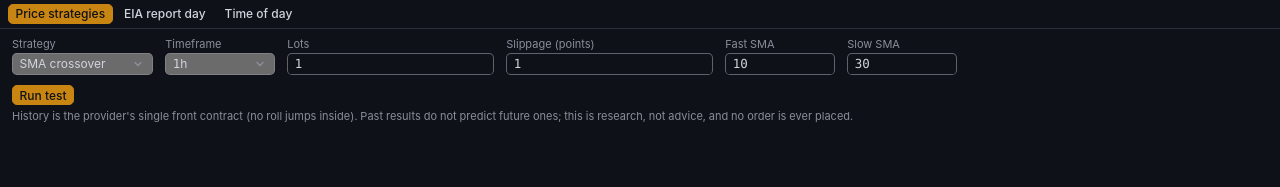
Scenario: the Strategy tester panel offers the EIA report day beside the price strategies
Check: the button "Price strategies" is shown, box [8, 4, 113, 24]
Click the button "EIA report day".
click(165, 14)  # box [117, 4, 213, 24]
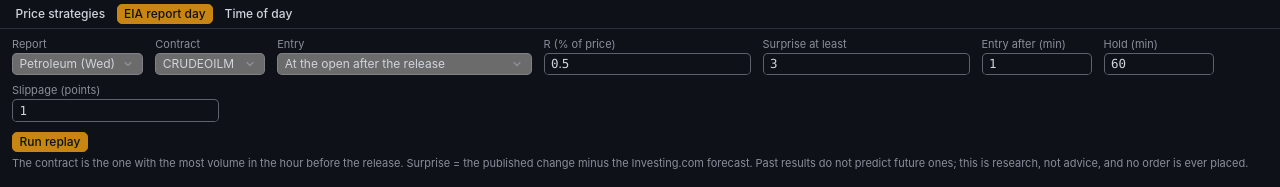
Check: the button "Run replay" is shown, box [12, 132, 88, 152]
Click the button "Price strategies".
click(60, 14)  # box [8, 4, 113, 24]
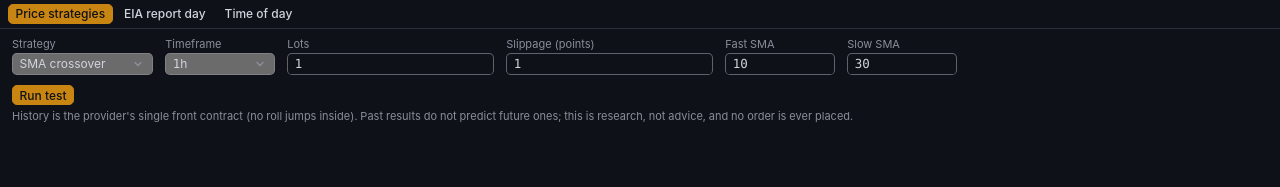
Check: the button "Run replay" is gone
